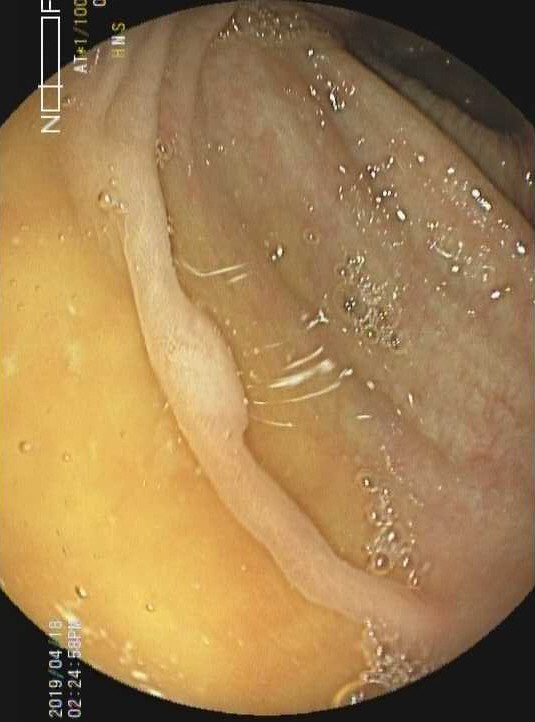adenoma: (176, 301, 254, 441)
